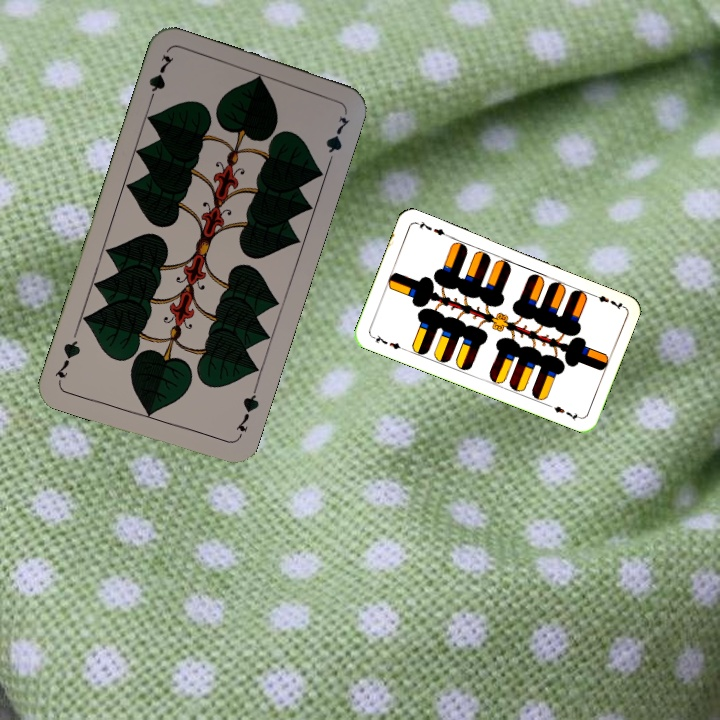E7: (587, 289, 625, 312), (368, 331, 407, 352)
G7: (144, 51, 177, 108), (231, 384, 262, 442)
